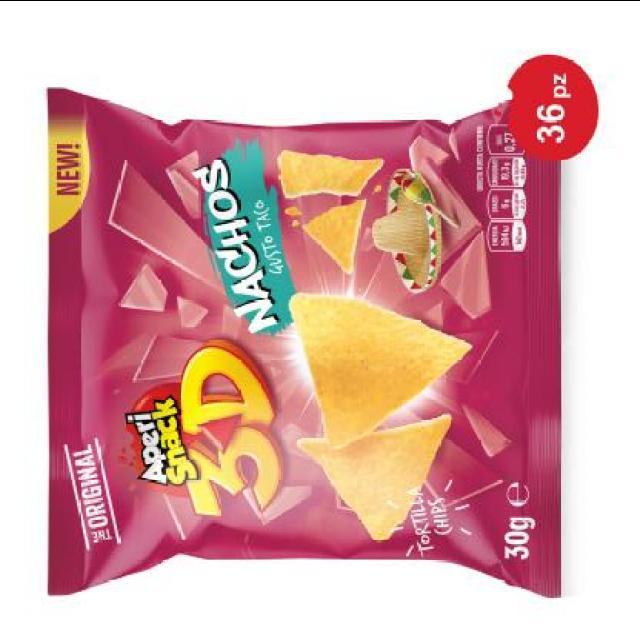Chips: (45, 80, 572, 588)
